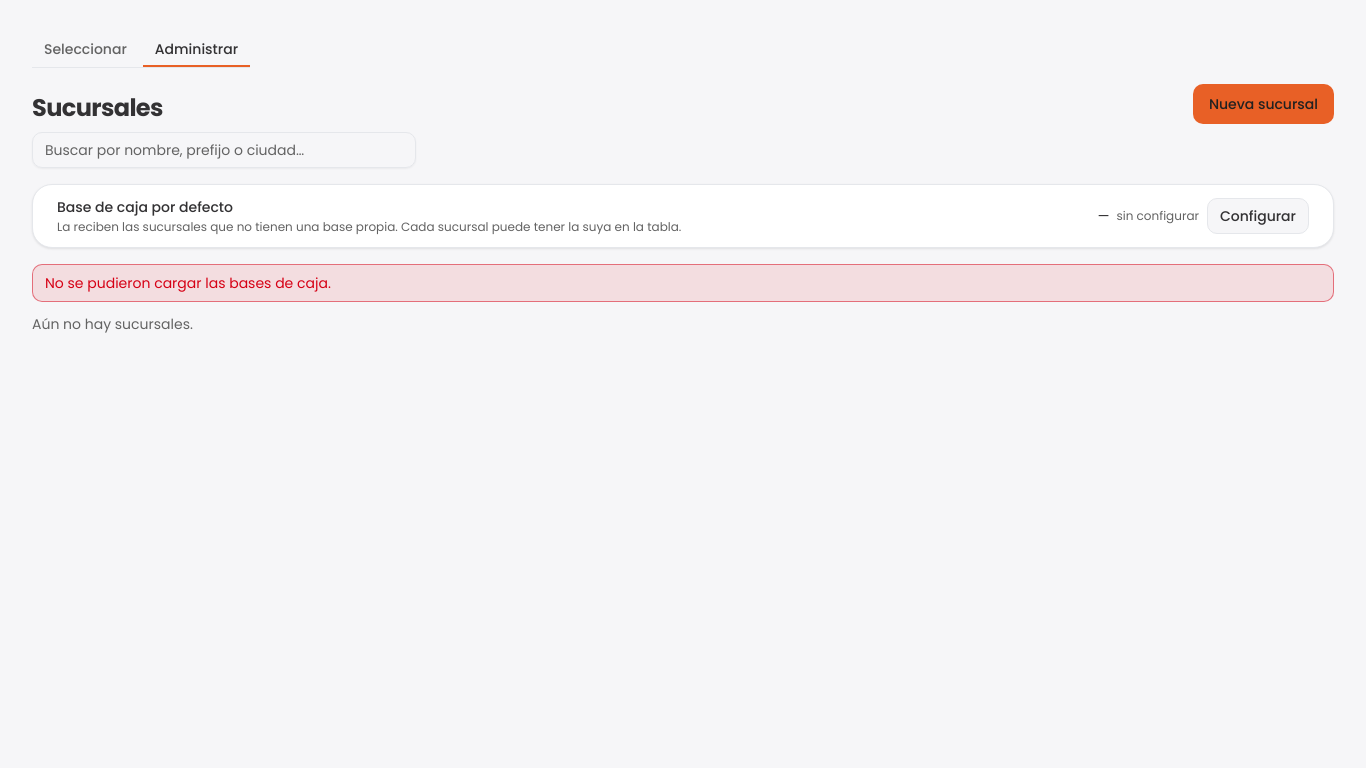
Test: SeleccionarSucursal unified page › T4: "Nueva sucursal" opens the form with uuid_tipo_sucursal auto-filled from HARDCODED_CATALOG
This screenshot has width=1366, height=768.
Check: the message "Aún no hay sucursales." is shown, box [32, 314, 193, 334]
Step 1. Click the button with test id "sucursal-new" → (1263, 104), box [1193, 84, 1334, 124]
(page scrolled)
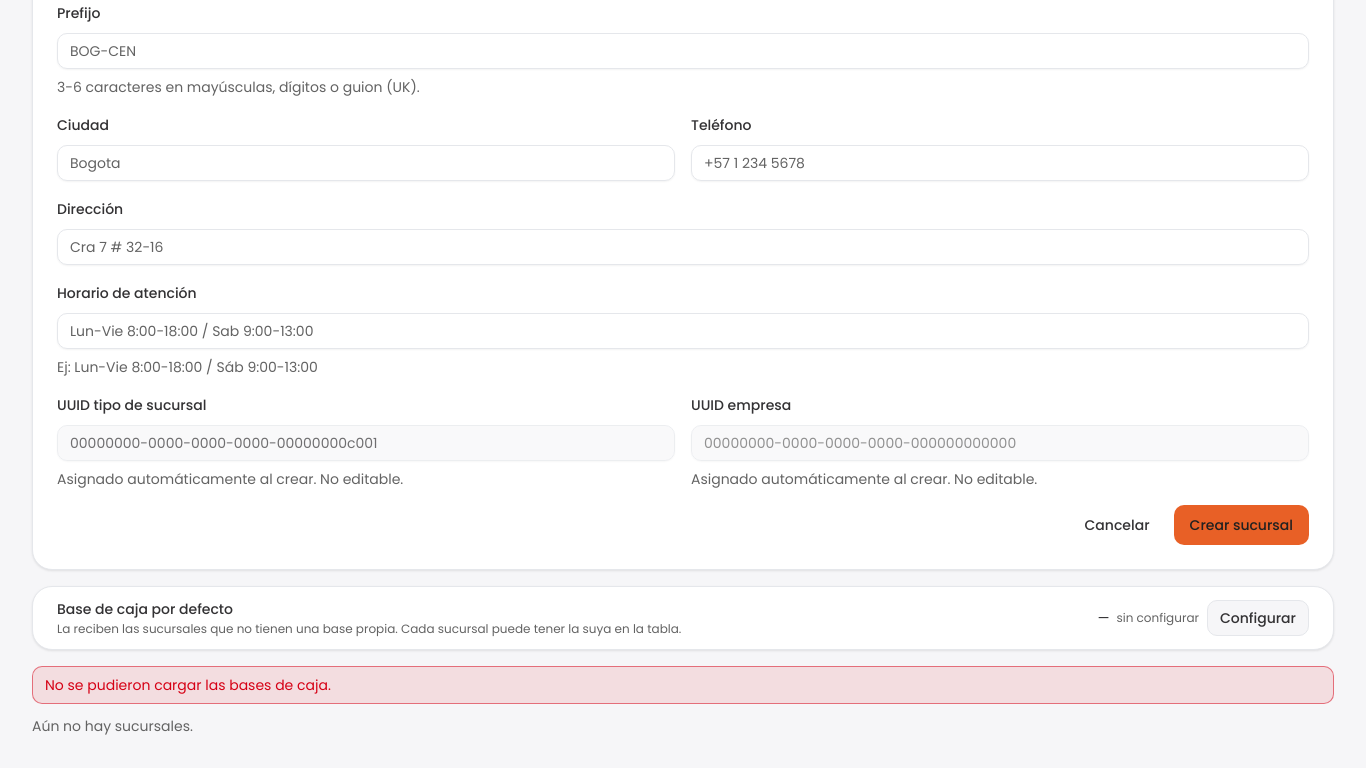
Check: the field with test id "sucursal-field-uuid-tipo-sucursal" holds "00000000-0000-0000-0000-00000000c001", box [57, 425, 675, 461]
